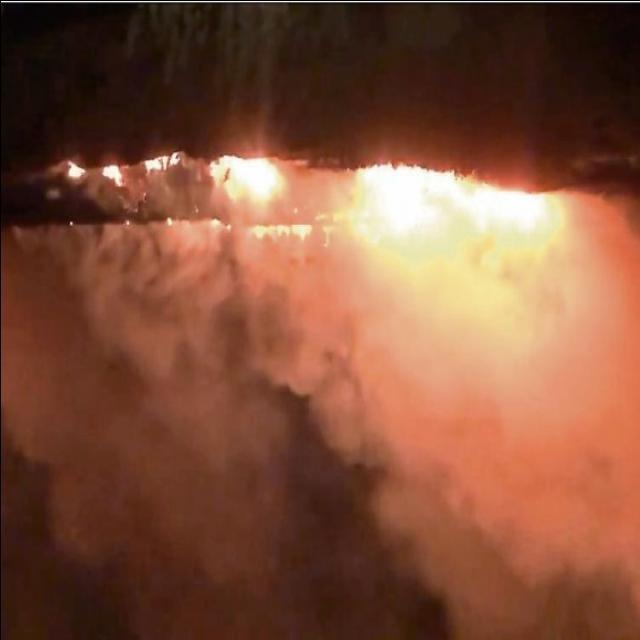Fire: (352, 164, 546, 224), (203, 150, 293, 209), (248, 216, 306, 251), (140, 148, 186, 176), (98, 162, 132, 188), (206, 217, 232, 235), (68, 160, 84, 182)
